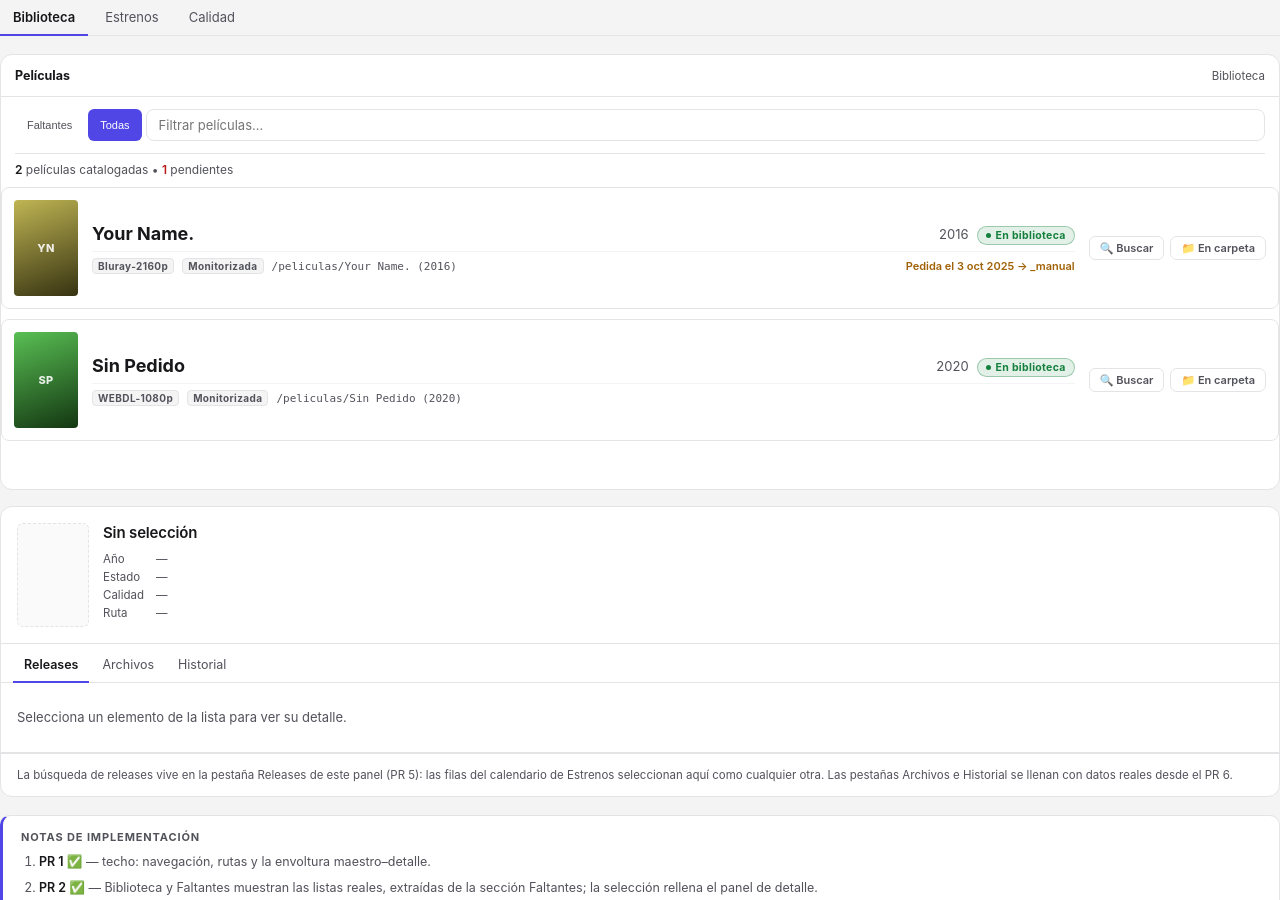
Scenario: sections · PR 6 — the detail tabs › Películas · Archivos lists the selected row folder, read-only
expect the text "Sin Pedido" is shown: met, box [92,355,185,376]
Click the element with class "sec-row" that starts with "Your Name." at (640, 248), box [1,187,1279,309]
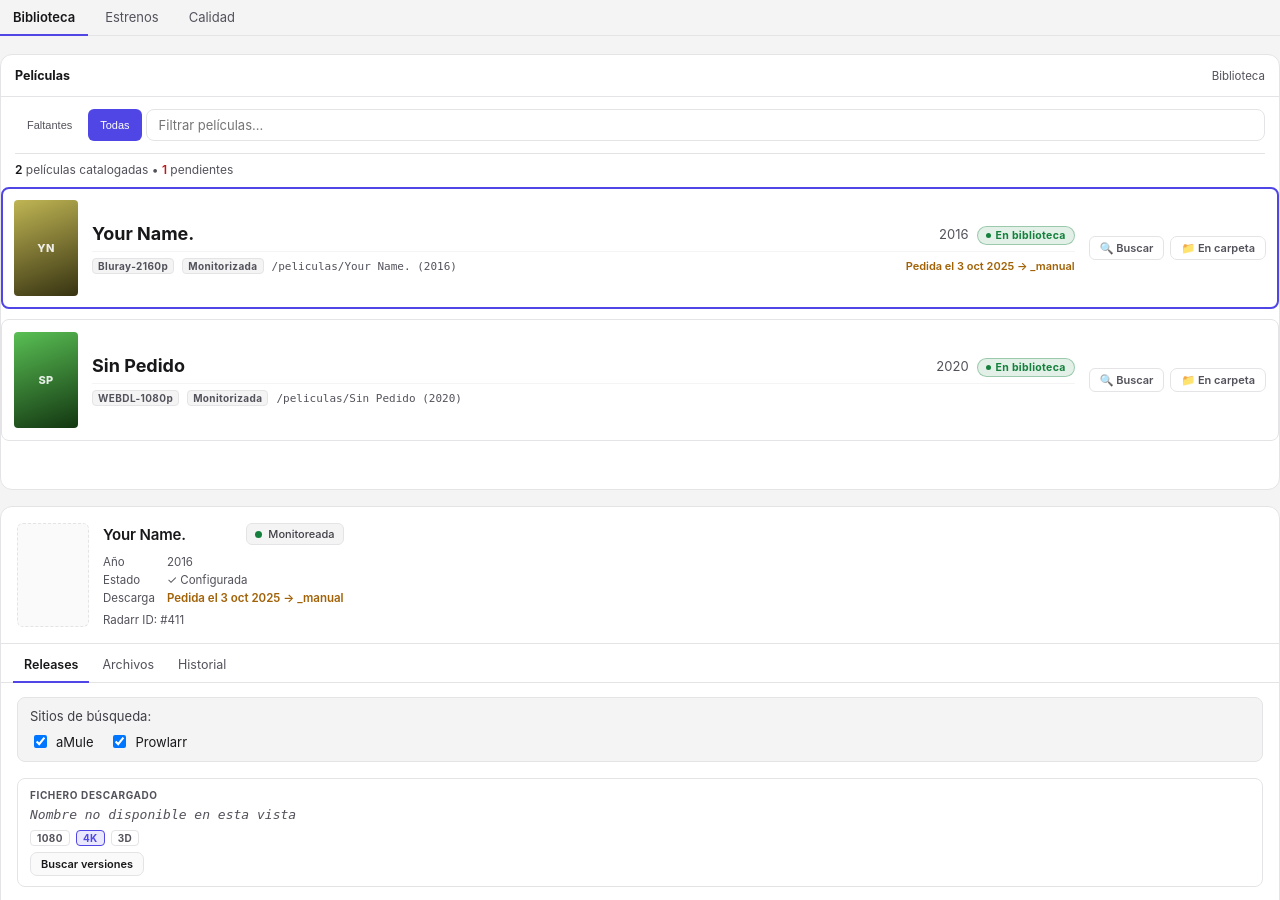
Click the button "Archivos" at (128, 666), box [92,648,165,683]
(page scrolled)
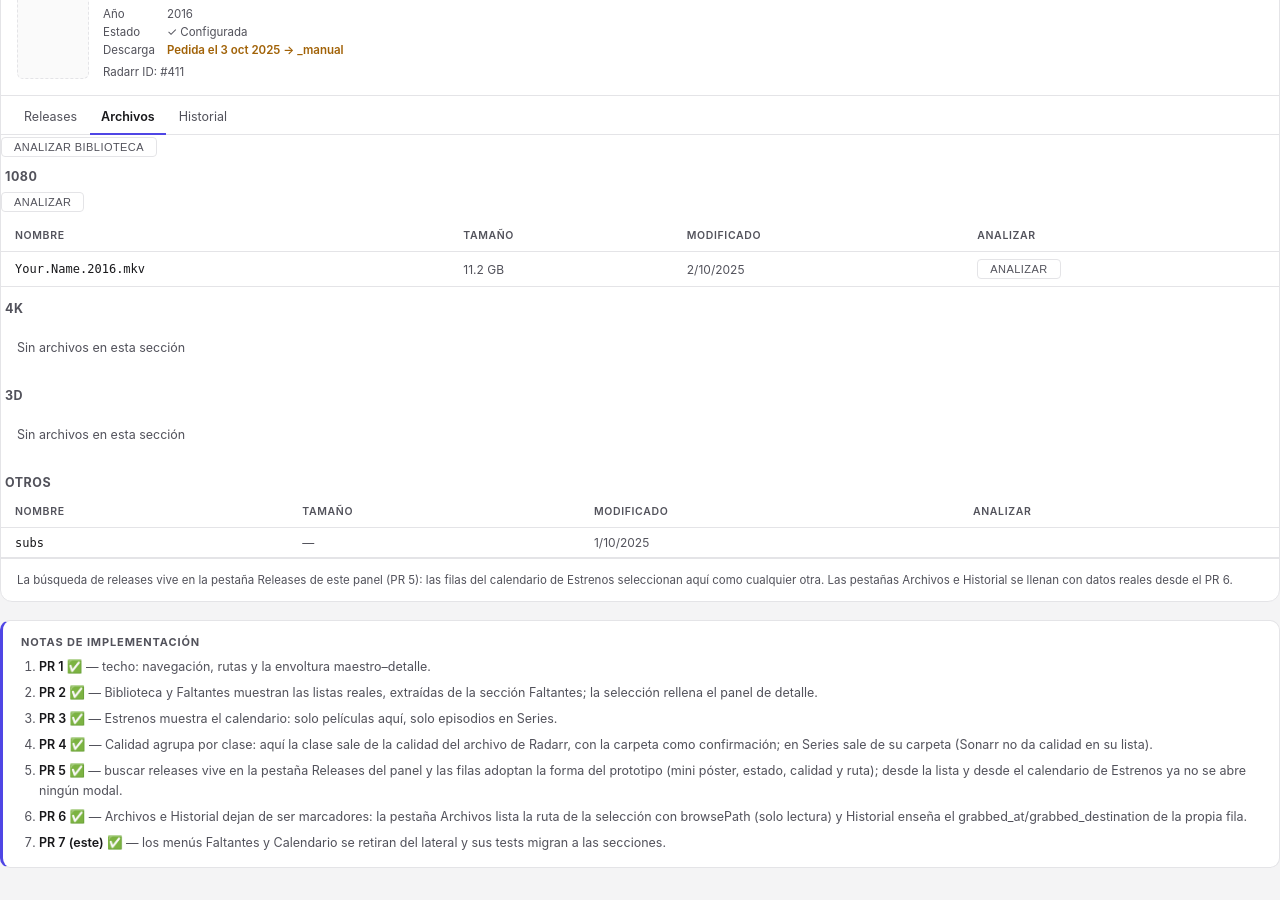
expect the text "Your.Name.2016.mkv" is shown: met, box [1,252,449,286]
expect the 1st column heading "Nombre" is shown: met, box [1,220,449,252]
expect the 1st column heading "Tamaño" is shown: met, box [449,220,673,252]
